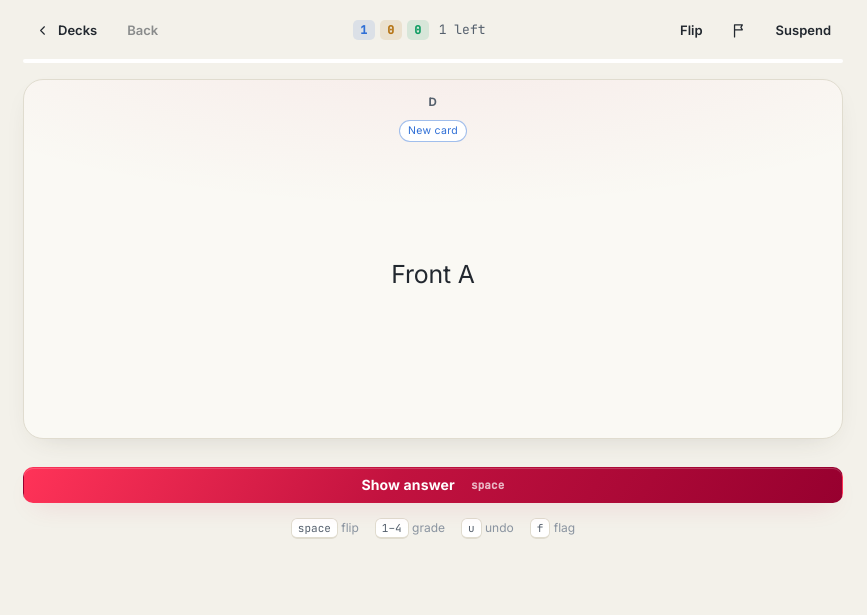
Test: the one-minute card comes back inside the session › a graduated card does NOT come back, and the session completes
Click the button "Show answer space".
click(433, 485)  # box left=23, top=467, right=843, bottom=503
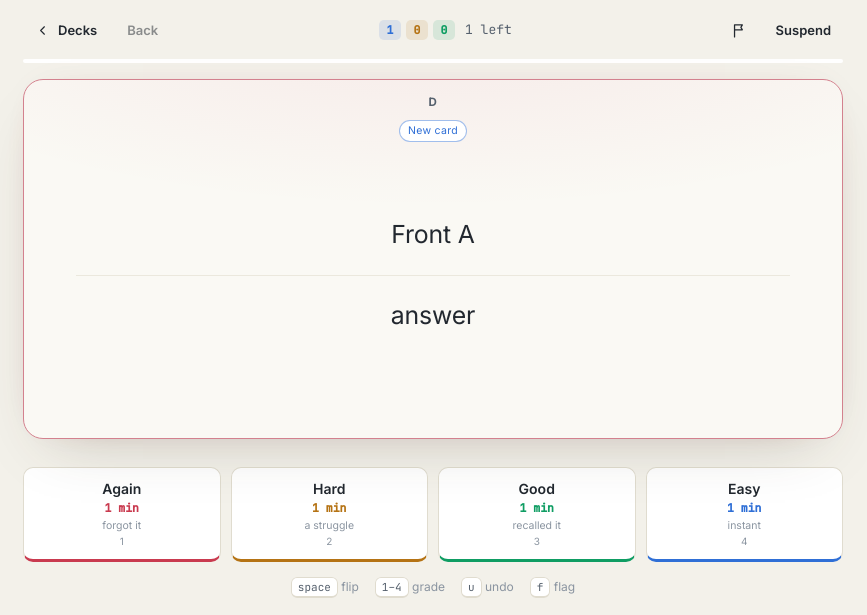
Click the text "Easy".
click(744, 488)  # box left=728, top=480, right=760, bottom=497
Wait 300000 ms
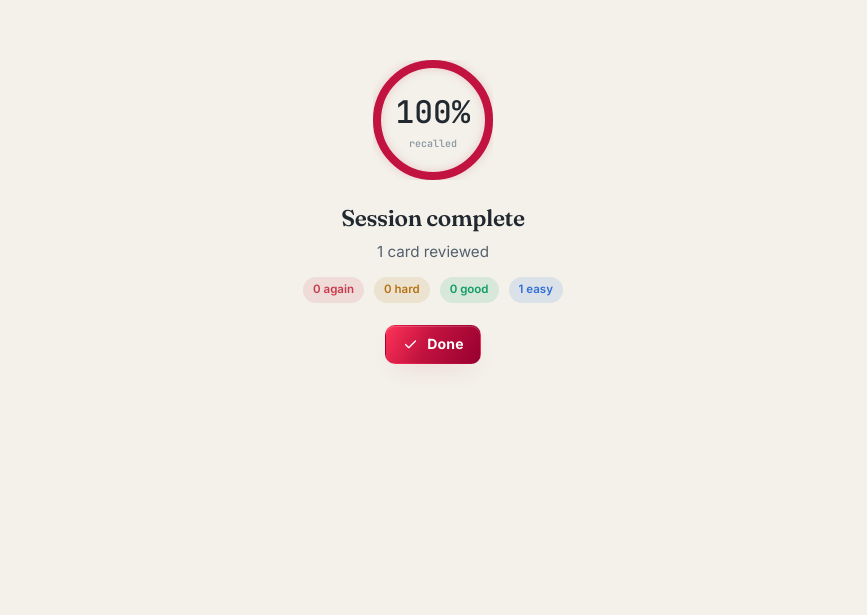
Expected: the text "Front A" is gone
Expected: the heading "Session complete" is shown, left=341, top=204, right=525, bottom=232
